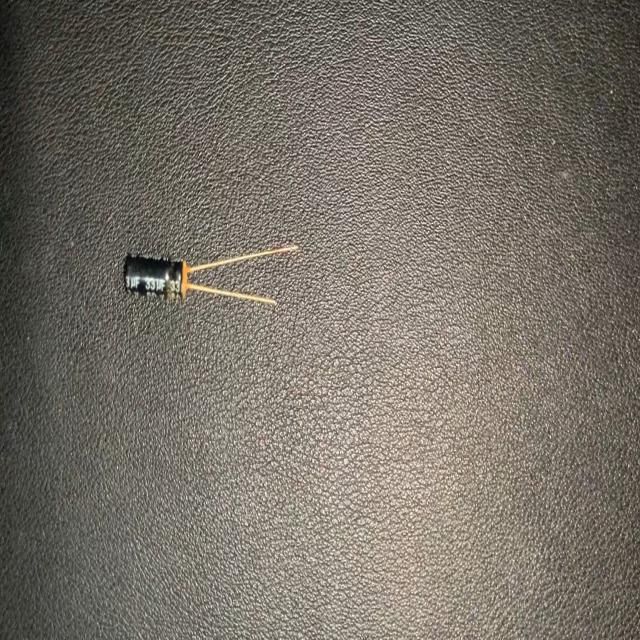capacitor: (120, 236, 302, 314)
